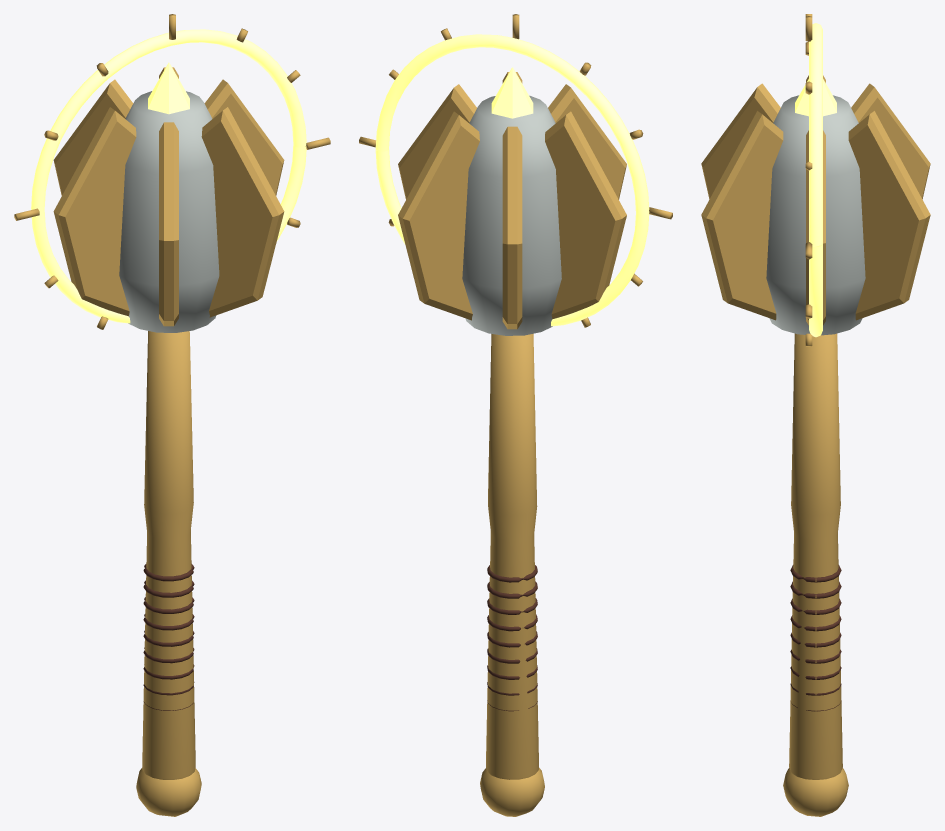
Rendered from cleric-mace-legendary-high.glb.
The picture shows the model from 3 angles, left to right: view 1: azimuth 30°, elevation 25°; view 2: azimuth 150°, elevation 25°; view 3: azimuth 270°, elevation 25°; orthographic projection.
Parts seen in each view (by area): view 1: cleric-mace__legendary; view 2: cleric-mace__legendary; view 3: cleric-mace__legendary.
Part boxes in pixels (x1=…): cleric-mace__legendary: x1=14, y1=14, x2=330, y2=816; cleric-mace__legendary: x1=359, y1=14, x2=672, y2=816; cleric-mace__legendary: x1=701, y1=14, x2=930, y2=816.
Size of the model in its own units: 0.36 by 0.8795 by 0.2302.
